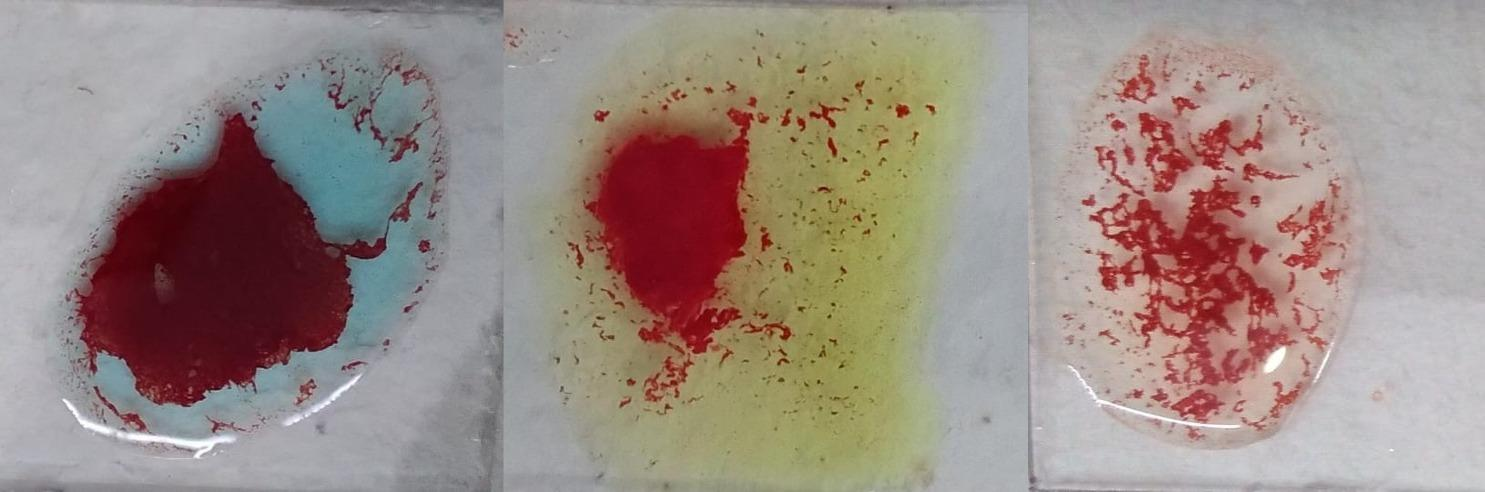A: (69, 42, 435, 444)
B: (547, 27, 957, 477)
D: (1033, 50, 1356, 442)
